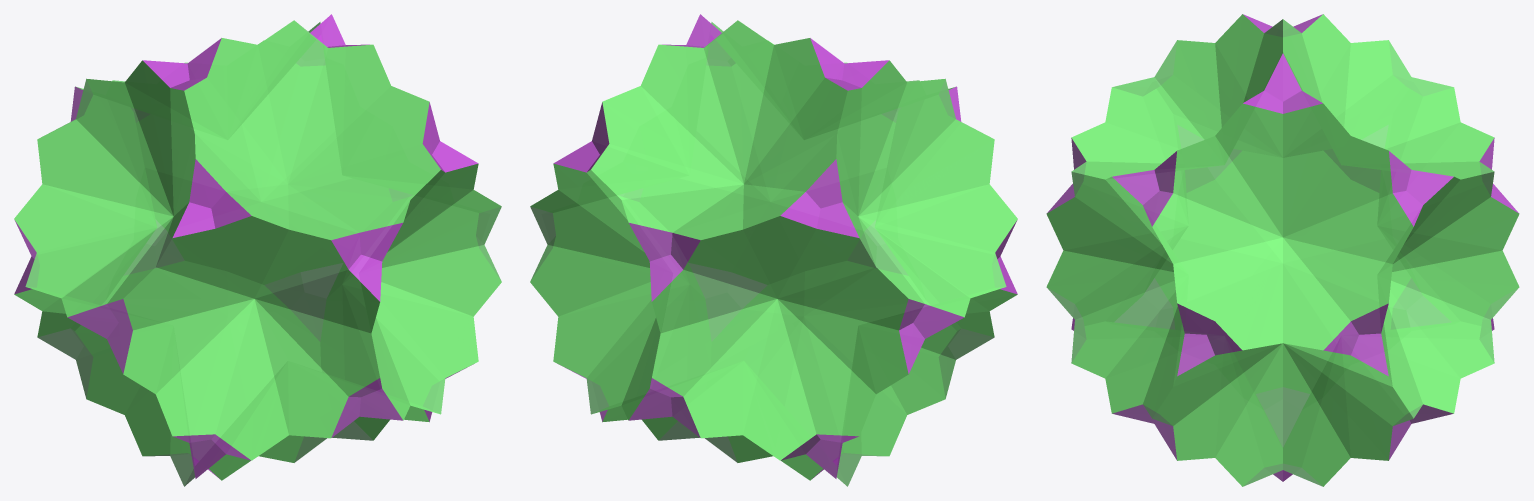
Rendered from Truncated_Dodecahedron.obj.
3 views of the same model, side by side, from view 1: azimuth 30°, elevation 25°; view 2: azimuth 150°, elevation 25°; view 3: azimuth 270°, elevation 25° (orthographic). The views are drawn at different scales.
Size of the model in its own units: 5.85 by 5.85 by 5.85.
